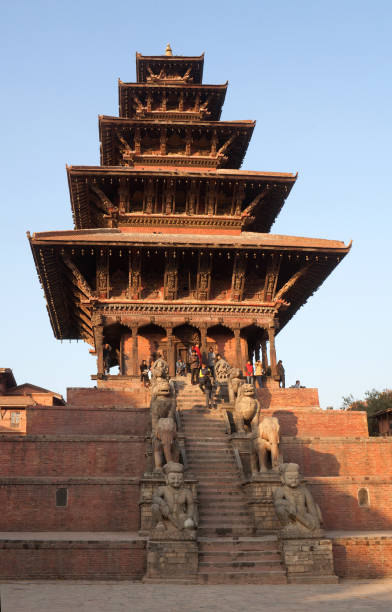nyathapola: (14, 3, 390, 601)
